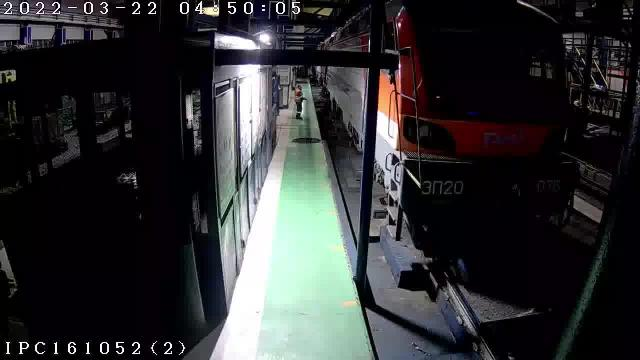person: (295, 85, 304, 119)
train: (375, 0, 576, 237)
